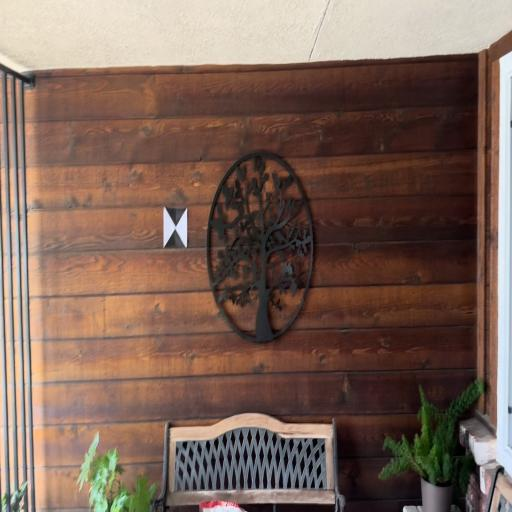target: (163, 207, 187, 248)
